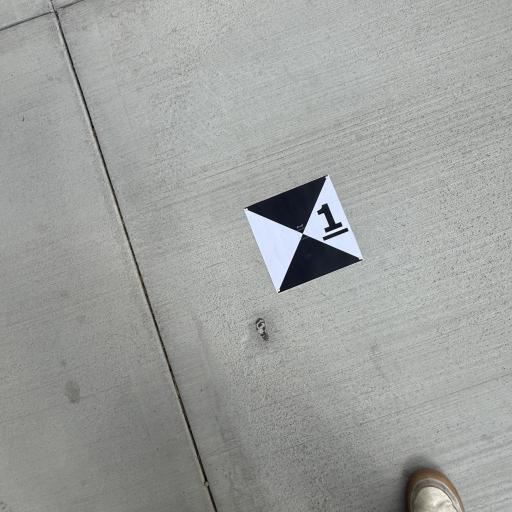target1: (233, 169, 373, 297)
